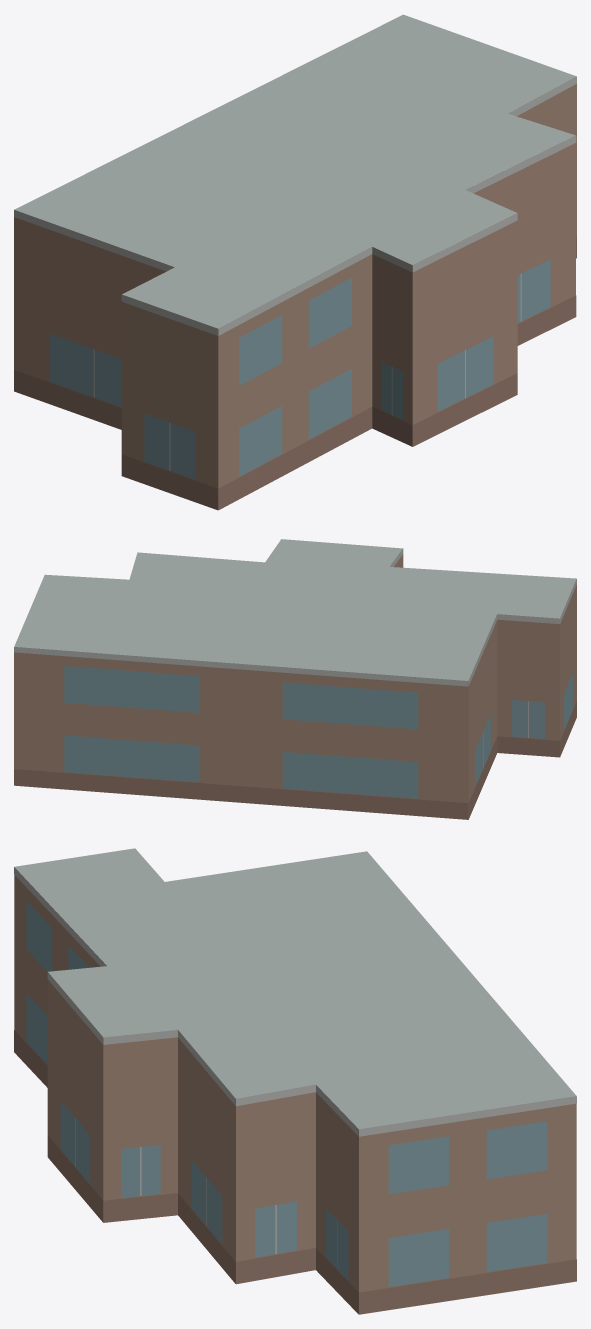
Rendered from survey-upis-32834475.glb.
3 renders of one model, top to bottom at view 1: azimuth 30°, elevation 25°; view 2: azimuth 150°, elevation 25°; view 3: azimuth 270°, elevation 25°, orthographic. The views are drawn at different scales.
Visible parts, largest first — view 1: survey-upis-32834475.tmp; view 2: survey-upis-32834475.tmp; view 3: survey-upis-32834475.tmp.
Boxes of the visible parts, box(x1,y1,x2,y2) form: survey-upis-32834475.tmp: box(14, 14, 576, 510); survey-upis-32834475.tmp: box(14, 539, 576, 819); survey-upis-32834475.tmp: box(14, 848, 576, 1314).
Size of the model in its own units: 19.86 by 6.1 by 16.8.
